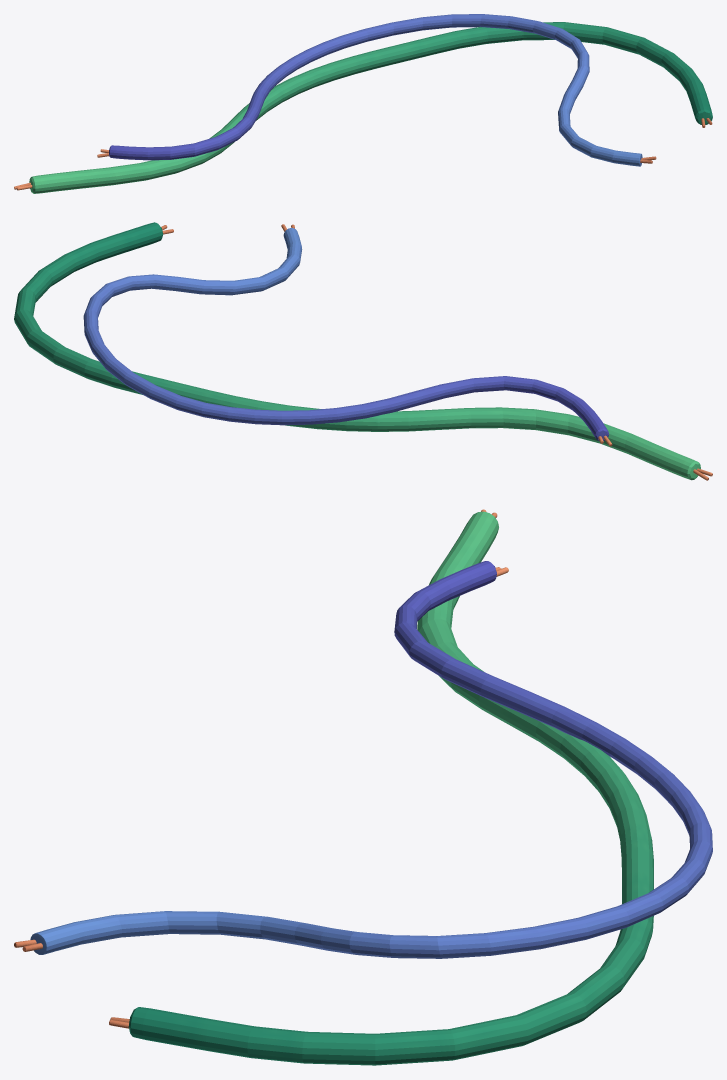
The model's file is wires.fbx.
3 views of the same model, one above another, from view 1: azimuth 30°, elevation 25°; view 2: azimuth 150°, elevation 25°; view 3: azimuth 270°, elevation 25° (orthographic). The views are drawn at different scales.
Visible parts, largest first — view 1: Cylinder.006, Cylinder.005; view 2: Cylinder.006, Cylinder.005; view 3: Cylinder.006, Cylinder.005.
Boxes of the visible parts, x1,y1,x2,y2 form: Cylinder.006: (14, 22, 712, 193); Cylinder.005: (97, 14, 656, 166); Cylinder.006: (14, 222, 712, 480); Cylinder.005: (83, 224, 612, 446); Cylinder.006: (109, 509, 653, 1065); Cylinder.005: (14, 561, 712, 958).
Size of the model in its own units: 2568 by 139 by 1395.
